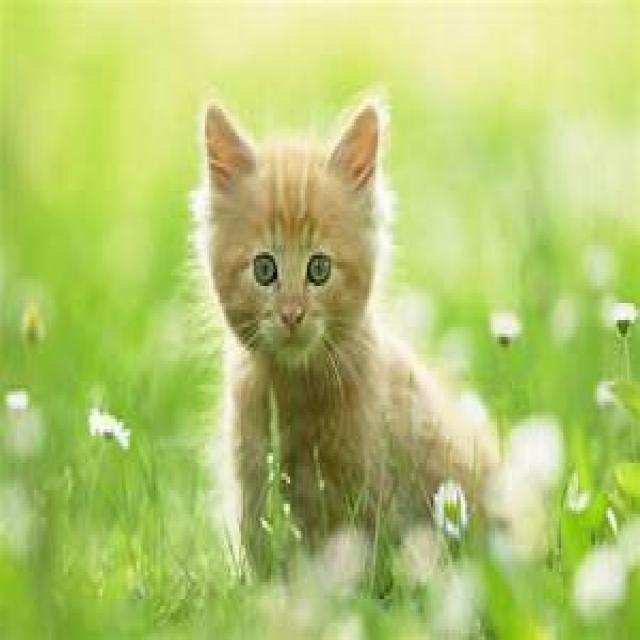animal: (202, 104, 487, 582)
